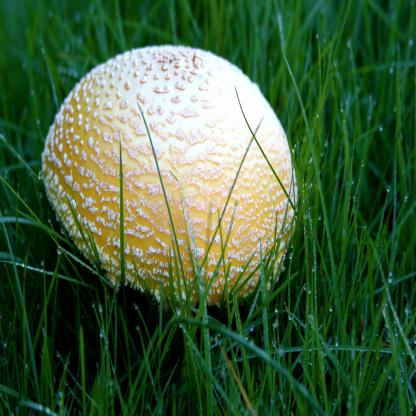Ball: (41, 45, 298, 308)
